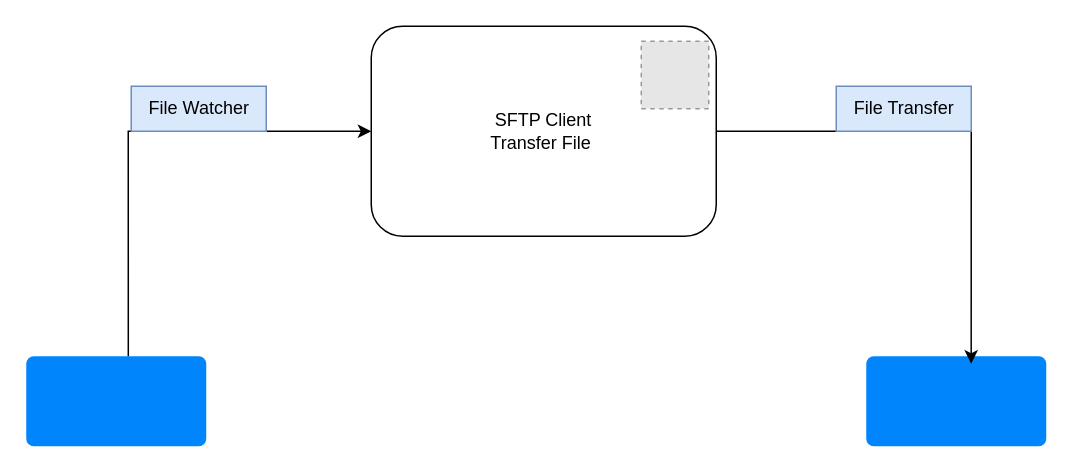
The diagram is 1071 pixels wide and 473 high, and some of its shapes have lost their labels. Grey dashed boxes stand in for pictures. The shapes that lost their labels are listed below. From the top down, each one's centre as x and y in pixels, then its label:
pixel 116 401: SFTP Server A
pixel 956 401: SFTP Server B
